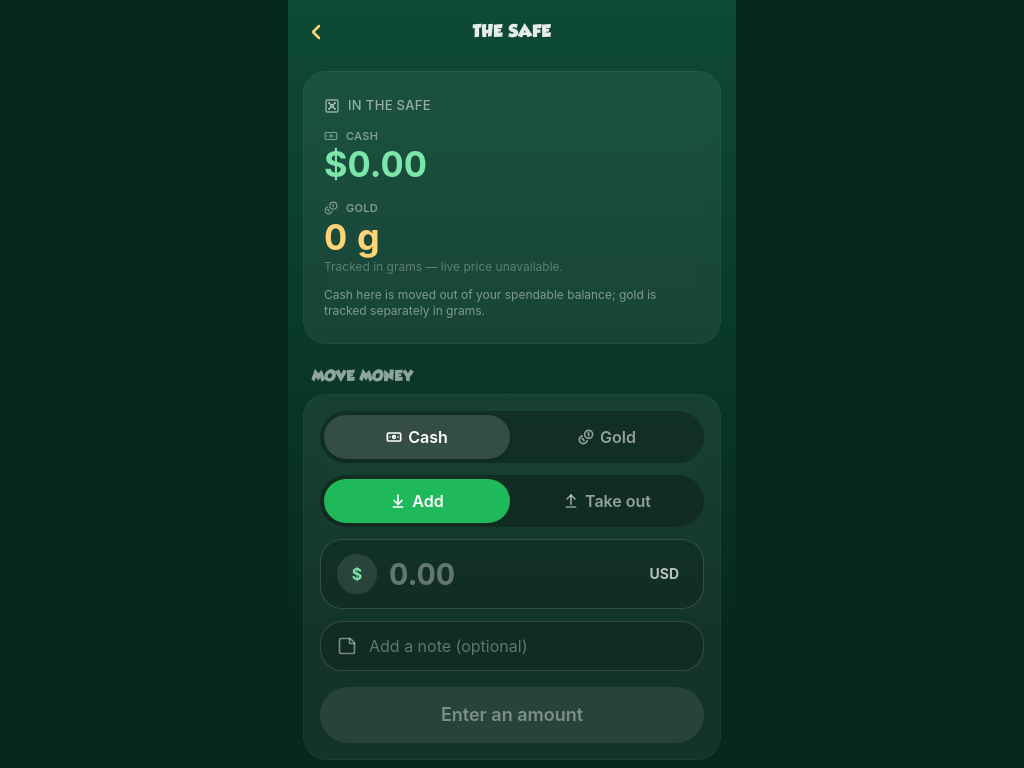
Scenario: Safe › clamps grams to three decimals
The width and height of the screenshot is (1024, 768).
Click the button "Gold" at (607, 436), box left=514, top=414, right=700, bottom=458
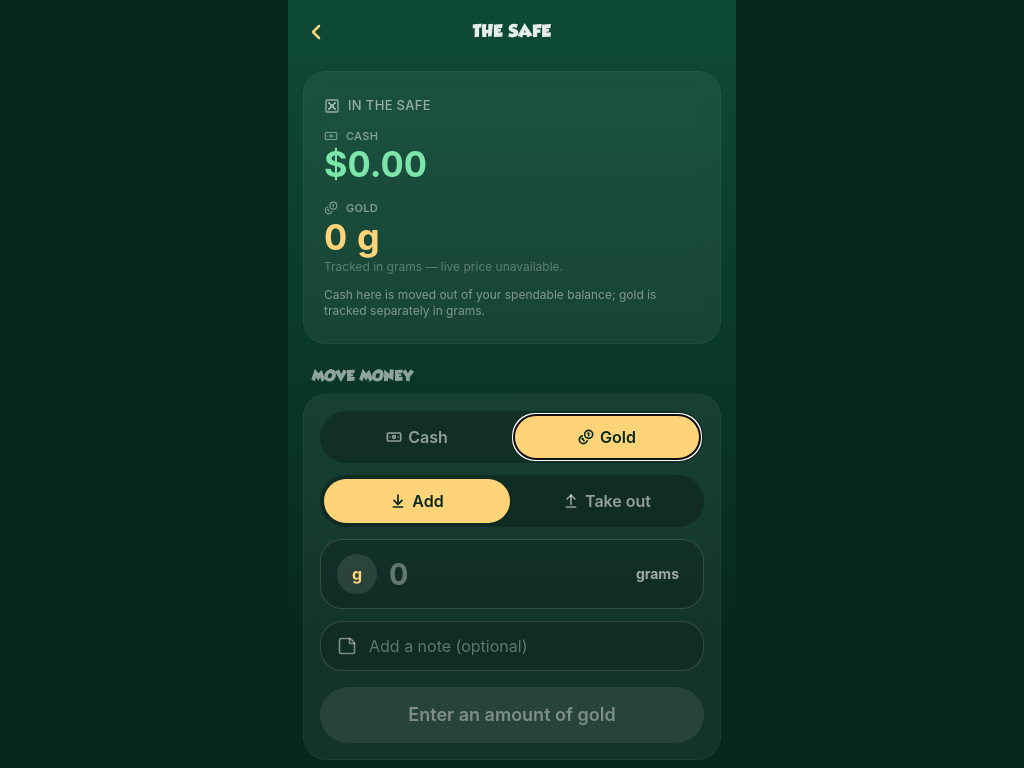
Type "1.23456" into the field named "Grams" at (502, 574), box left=389, top=556, right=616, bottom=592
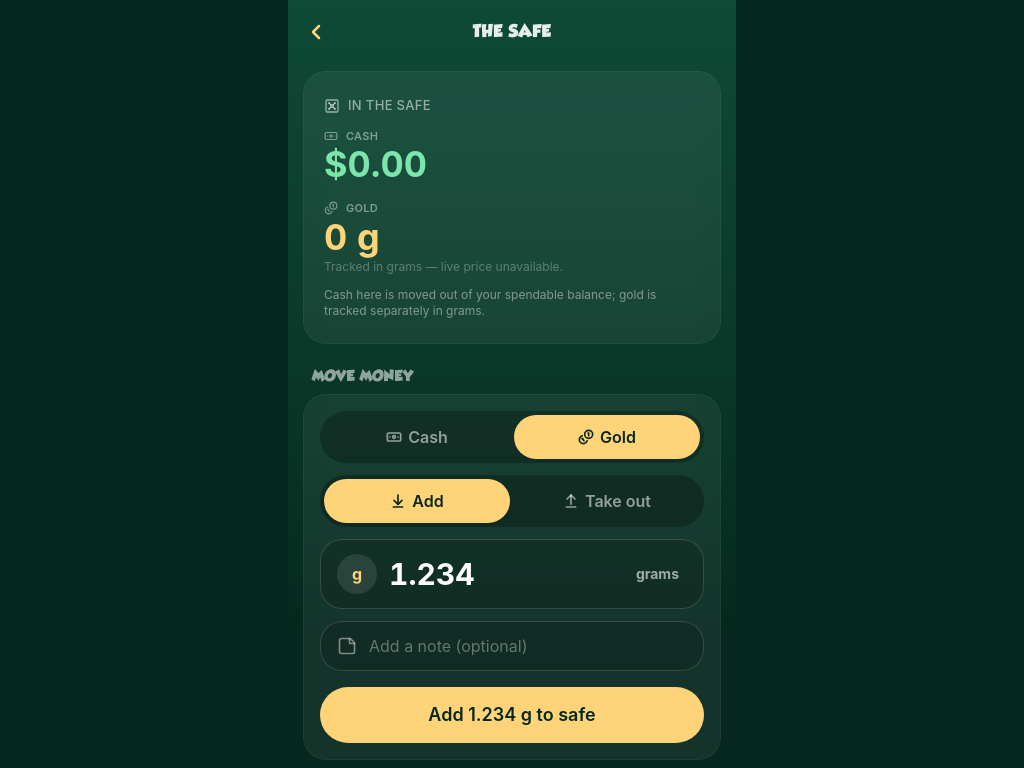
Expected: the field named "Grams" holds "1.234", left=389, top=556, right=616, bottom=592
